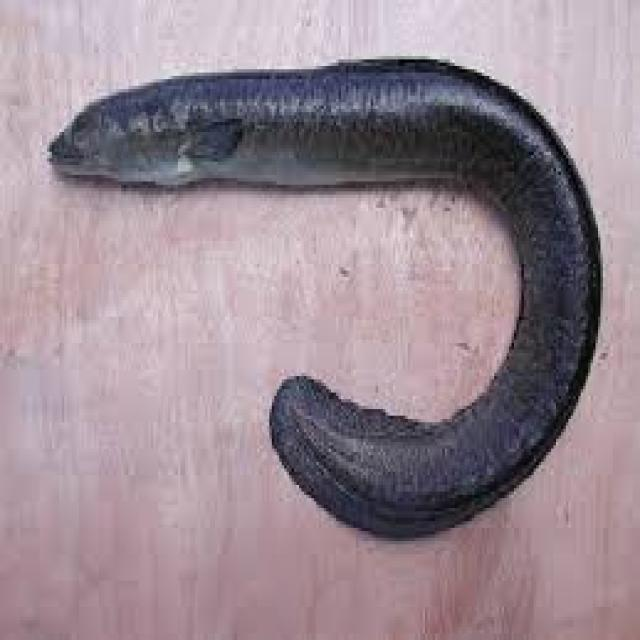Mekong_River_Eel: (42, 50, 603, 541)
